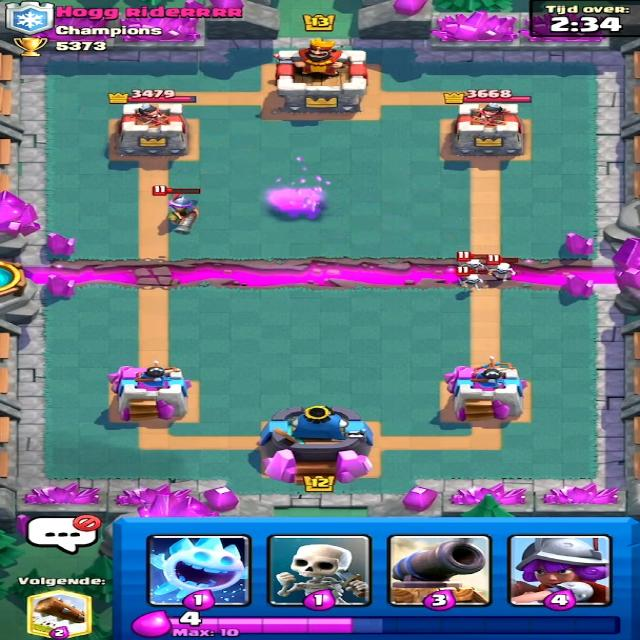Cannon_Card: (384, 535, 492, 604)
Enemy_Musketeer_Troop: (154, 186, 206, 237)
Enemy_Skeleton_Troop: (483, 259, 519, 280), (452, 268, 483, 290), (454, 256, 488, 272)
Ice_Spirit_Card: (152, 537, 253, 610)
Musketeer_Card: (511, 532, 604, 604)
Skeleton_Card: (266, 534, 368, 606)
